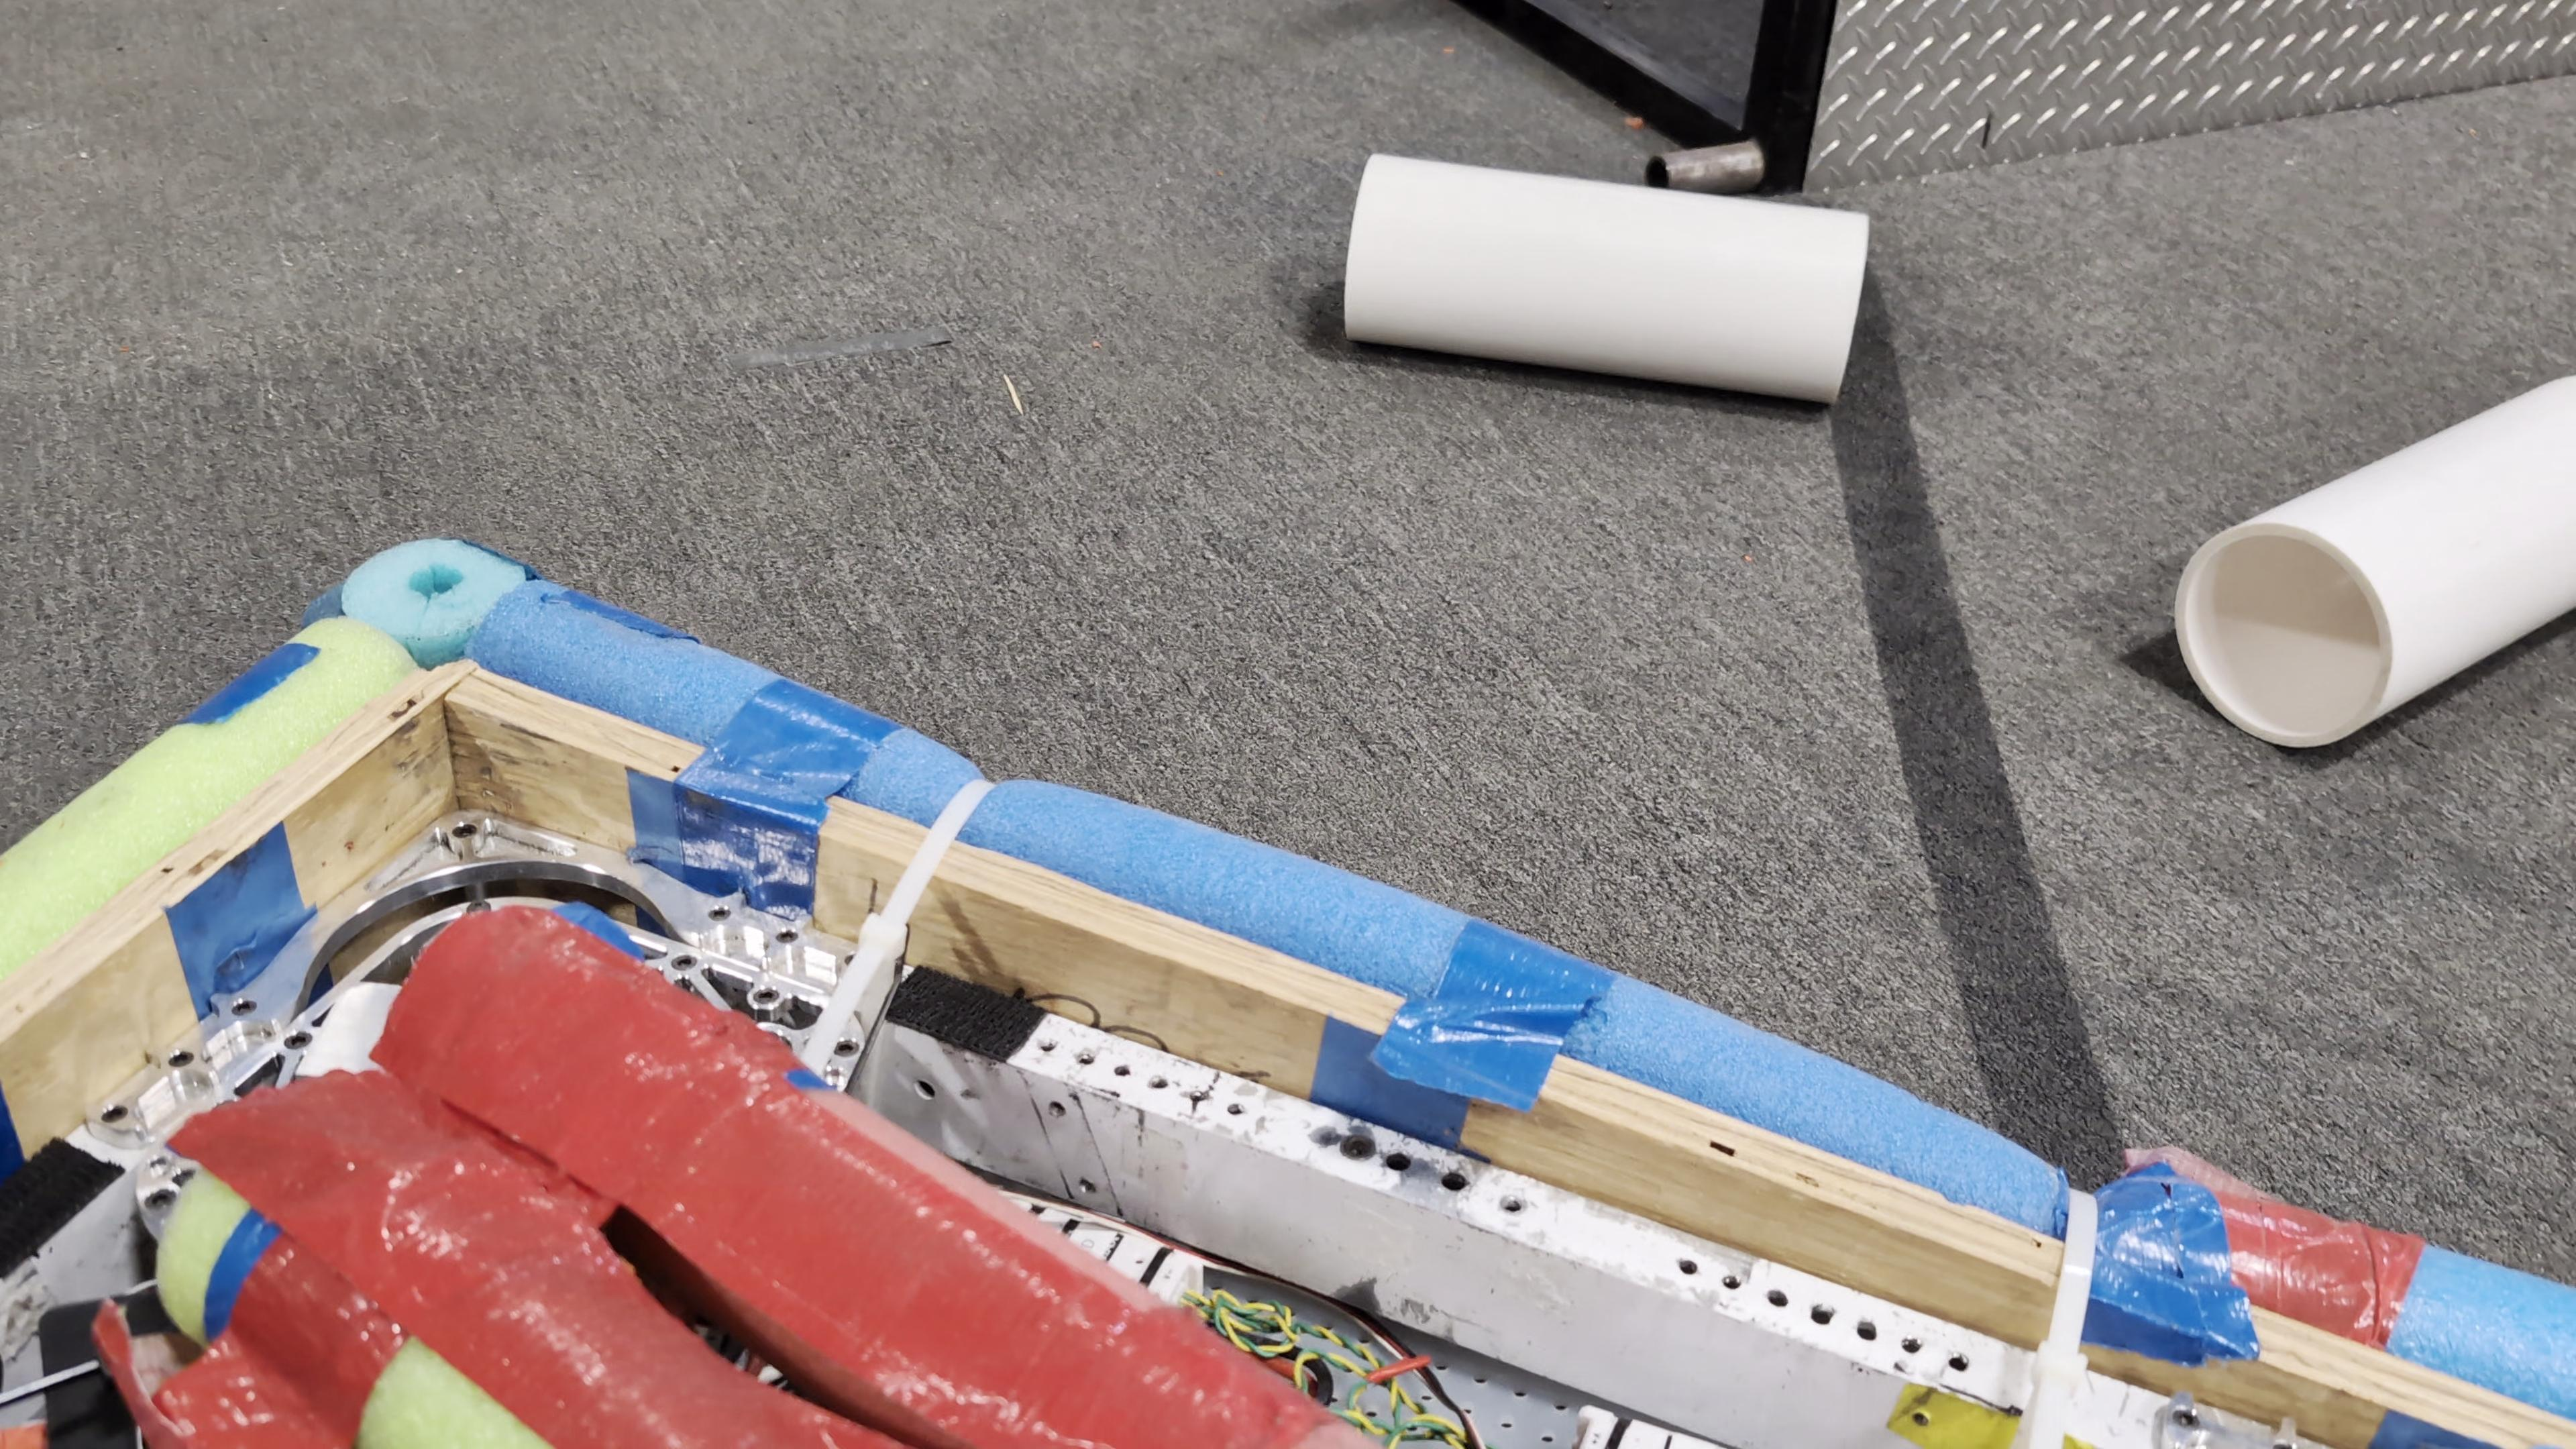coral: (2171, 350, 2574, 750), (1341, 147, 1874, 405)
